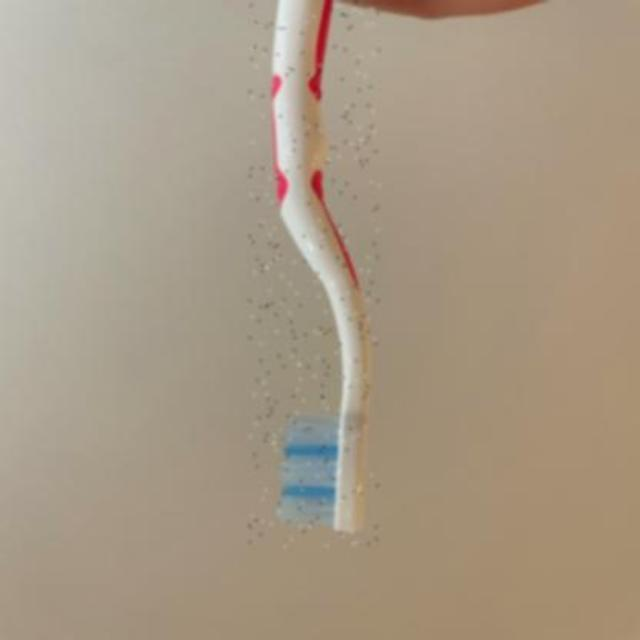toothbrush: (250, 1, 380, 550)
